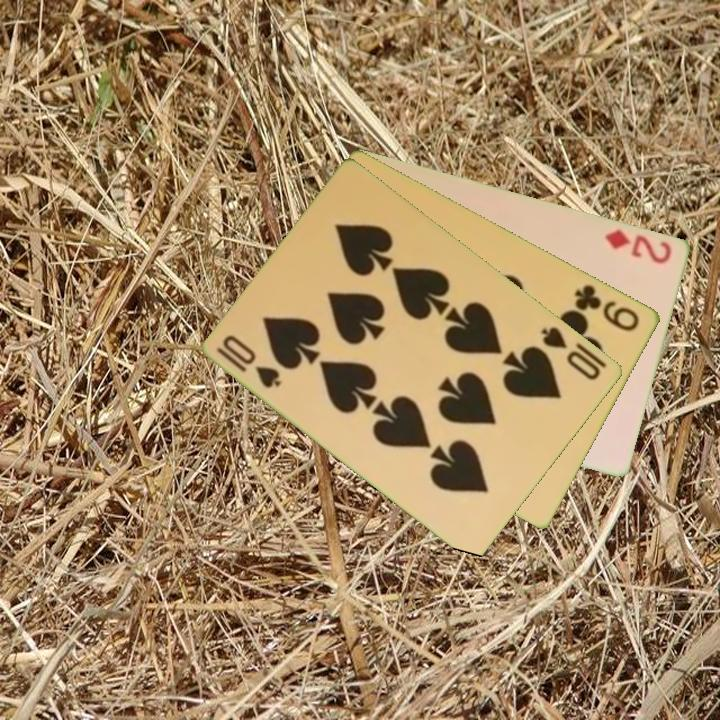10s: (213, 331, 285, 392), (538, 322, 604, 383)
2d: (601, 225, 675, 267)
9c: (571, 280, 643, 334)
